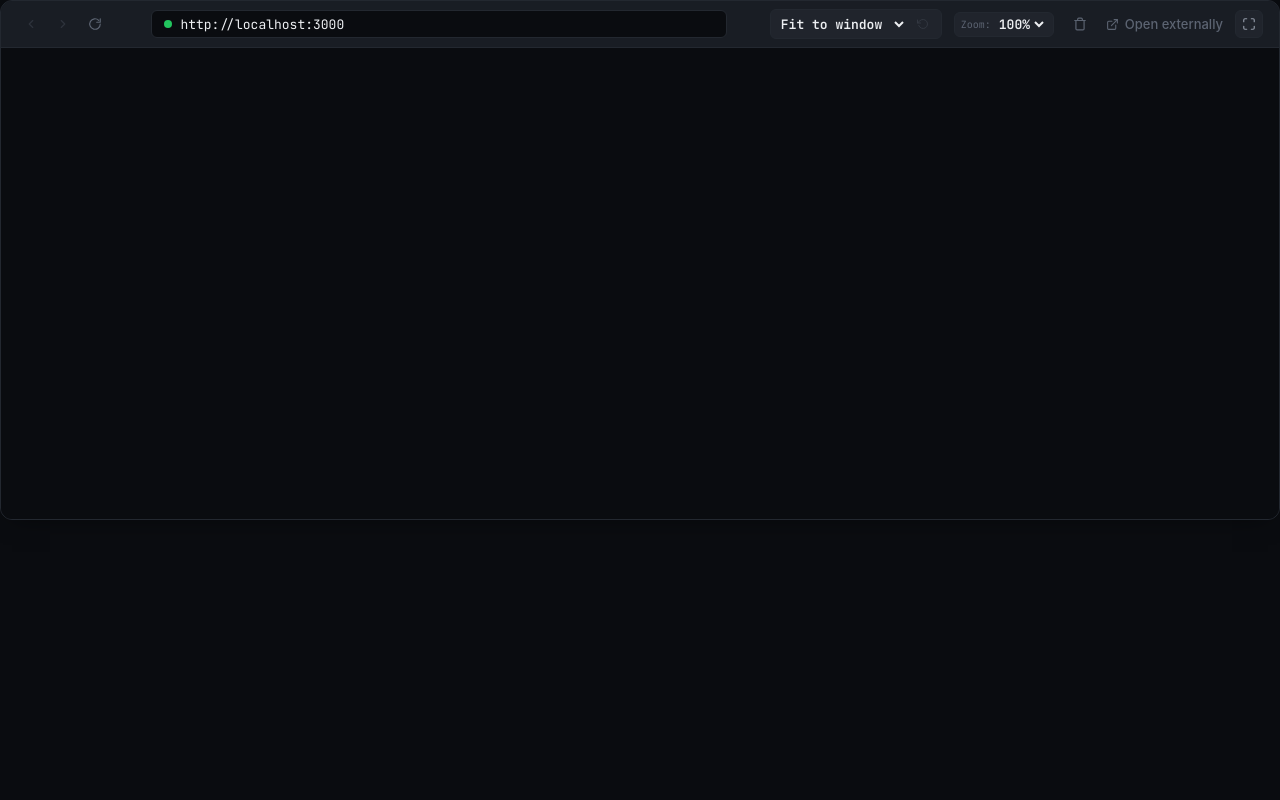
Test: AppPreviewTab device simulator › resizes the viewport to the selected preset and applies CDP emulation
Select "iPhone 15" in the dropdown named "Device" at (842, 24), box [777,14,907,34]
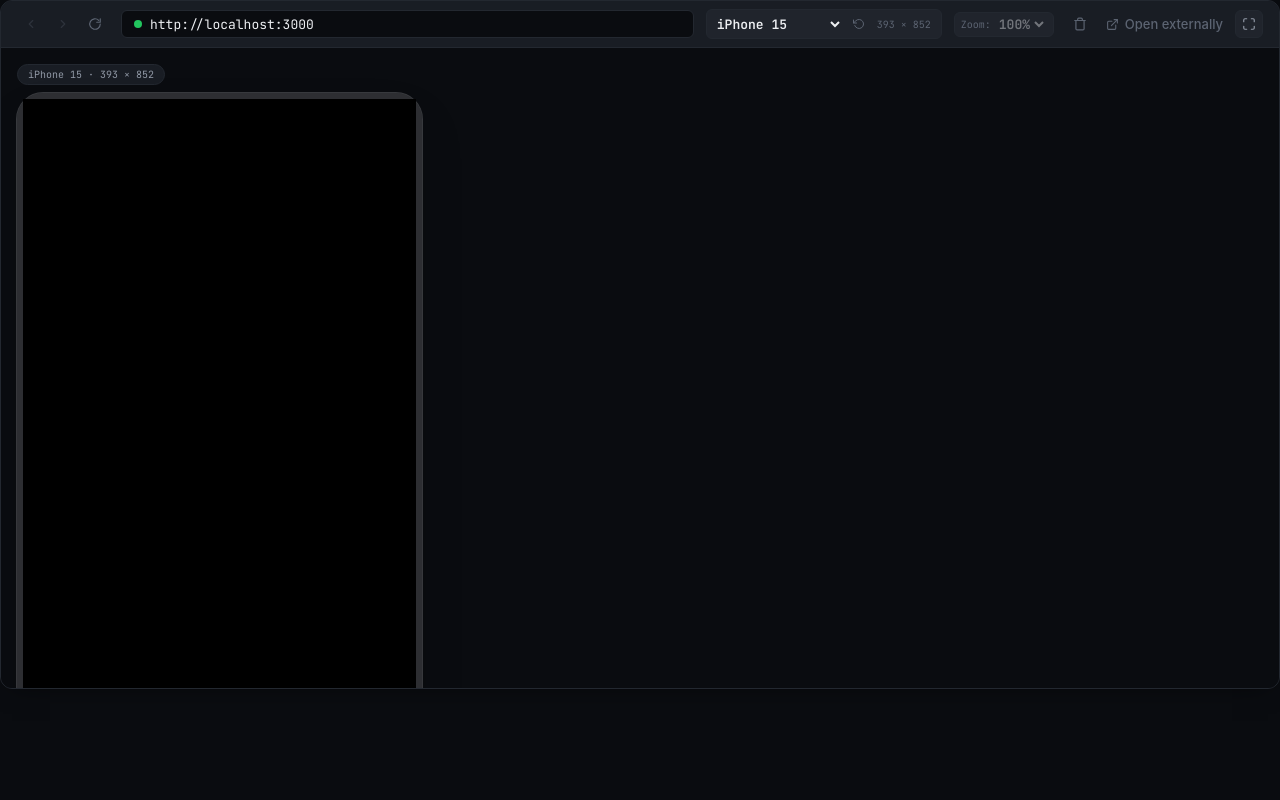
Expected: the dropdown named "zoom" is disabled, [995,14,1047,34]
